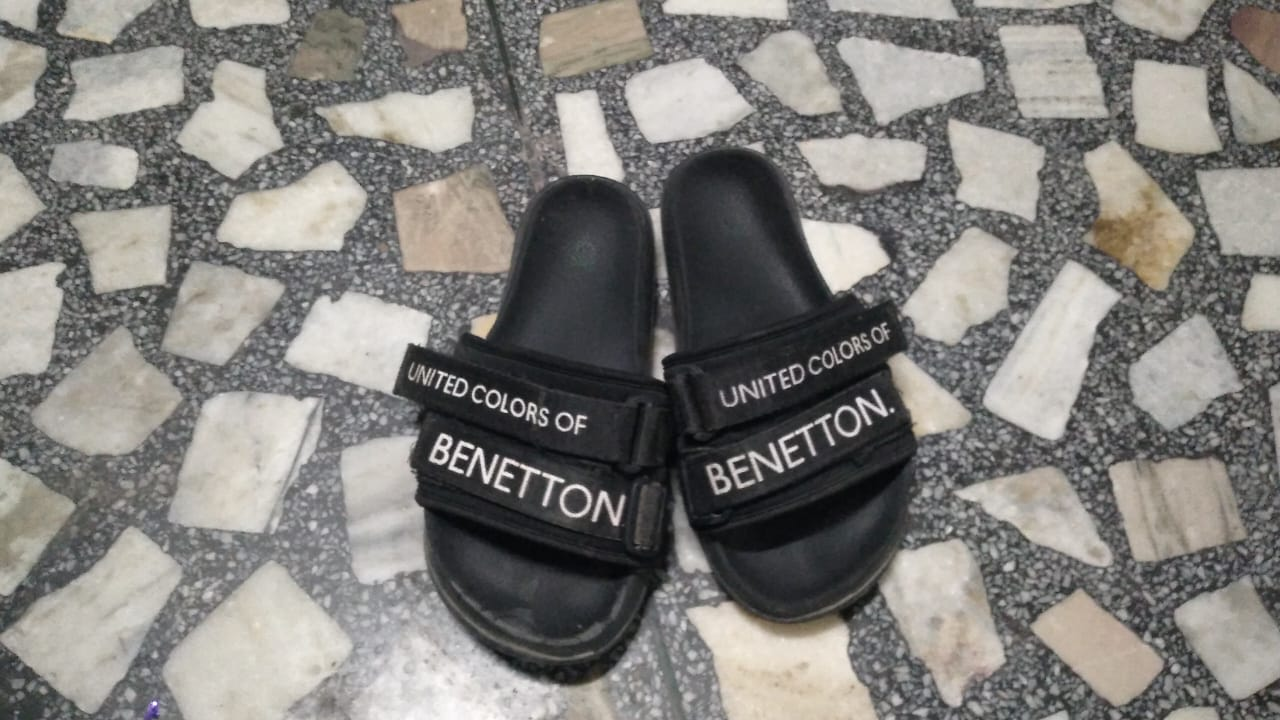Footwear: (348, 139, 934, 678), (396, 166, 669, 669), (660, 142, 922, 624)
